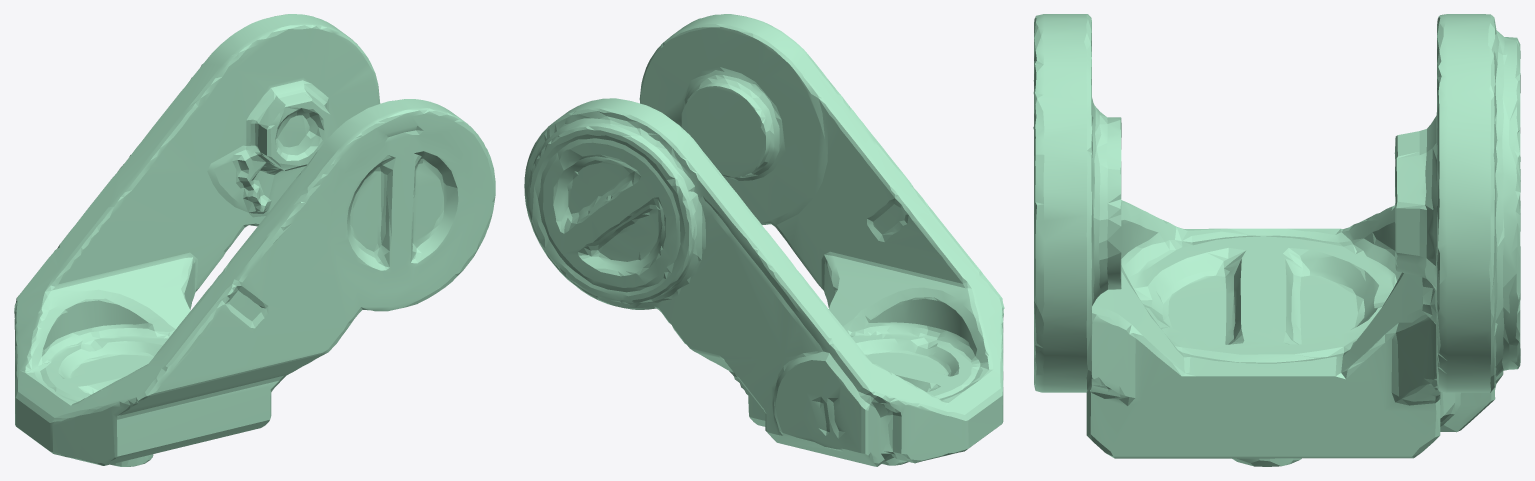
File: fork.dae
3 views of the same model, side by side, from view 1: azimuth 30°, elevation 25°; view 2: azimuth 150°, elevation 25°; view 3: azimuth 270°, elevation 25° (orthographic). The views are drawn at different scales.
Visible parts, largest first — view 1: asmMainFork_221220_lp; view 2: asmMainFork_221220_lp; view 3: asmMainFork_221220_lp.
Boxes of the visible parts, x1,y1,x2,y2 form: asmMainFork_221220_lp: (14, 14, 495, 466); asmMainFork_221220_lp: (524, 14, 1004, 466); asmMainFork_221220_lp: (1033, 14, 1520, 466).
Size of the model in its own units: 0.19 by 0.1158 by 0.156.
